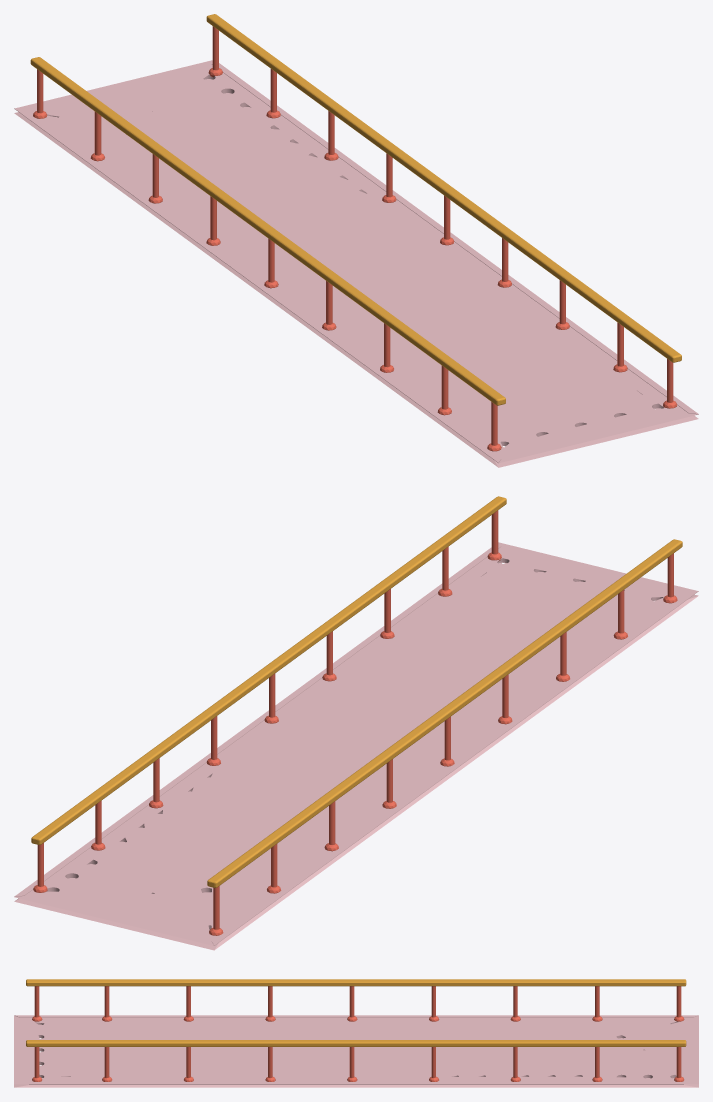
File: ThinScaffolding.fbx
The picture shows the model from 3 angles, top to bottom: view 1: azimuth 30°, elevation 25°; view 2: azimuth 150°, elevation 25°; view 3: azimuth 270°, elevation 25°; orthographic projection. The views are drawn at different scales.
Visible parts, largest first — view 1: Plane, Cube, Cube.001; view 2: Plane, Cube.001, Cube; view 3: Plane, Cube.001, Cube, Cylinder.009, Cylinder.010, Cylinder.017, Cylinder.013, Cylinder.004, Cylinder, Cylinder.008, Cylinder.007, Cylinder.011 (+9 smaller).
Boxes of the visible parts, x1,y1,x2,y2 form: Plane: (14,60,698,467); Cube: (206,14,681,362); Cube.001: (30,57,505,405); Plane: (14,542,698,950); Cube.001: (207,539,682,887); Cube: (31,496,506,844); Plane: (14,1015,698,1087); Cube.001: (26,979,686,986); Cube: (26,1040,686,1046); Cylinder.009: (32,986,42,1021); Cylinder.010: (102,986,112,1021); Cylinder.017: (674,986,684,1021); Cylinder.013: (347,986,357,1021); Cylinder.004: (347,1047,357,1081); Cylinder: (674,1047,684,1081); Cylinder.008: (32,1047,42,1081); Cylinder.007: (102,1047,112,1081); Cylinder.011: (183,986,193,1021).
Bounding box in the file's own units: 200 × 56.9 × 838.
